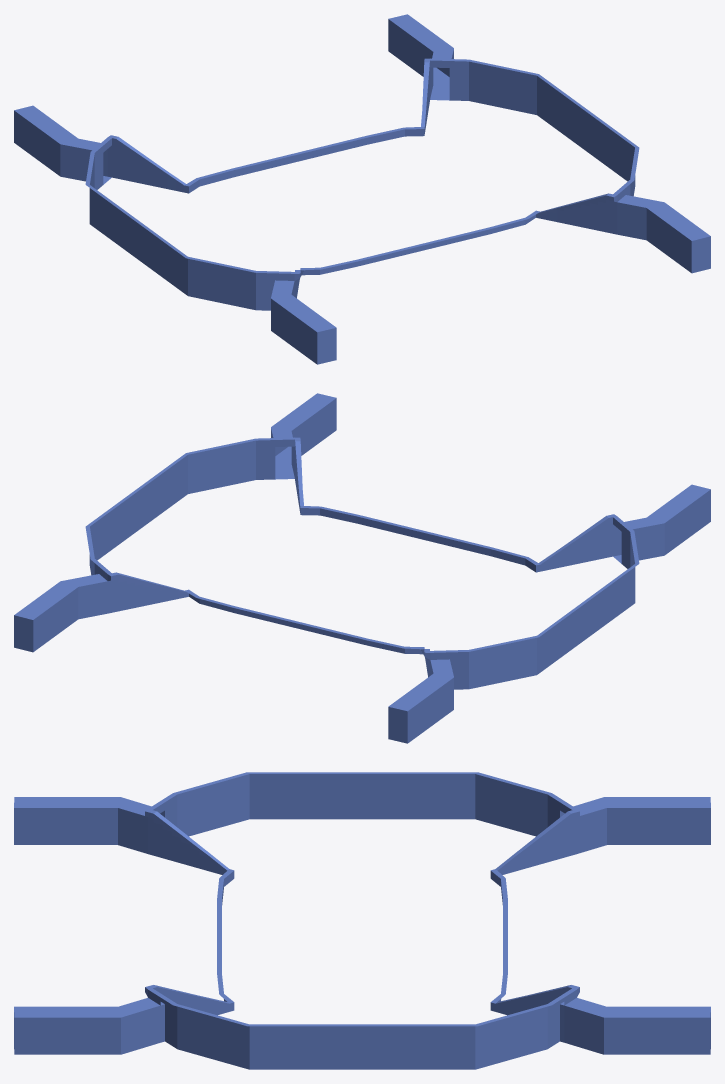
Rendered from barrier.fbx.
3 renders of one model, top to bottom at view 1: azimuth 30°, elevation 25°; view 2: azimuth 150°, elevation 25°; view 3: azimuth 270°, elevation 25°, orthographic. The views are drawn at different scales.
Parts seen in each view (by area): view 1: Barriers; view 2: Barriers; view 3: Barriers.
Part boxes in pixels (x1=…): Barriers: x1=14, y1=14, x2=710, y2=364; Barriers: x1=14, y1=393, x2=710, y2=743; Barriers: x1=14, y1=772, x2=710, y2=1069.
Bounding box in the file's own units: 5429 × 452 × 6294.
